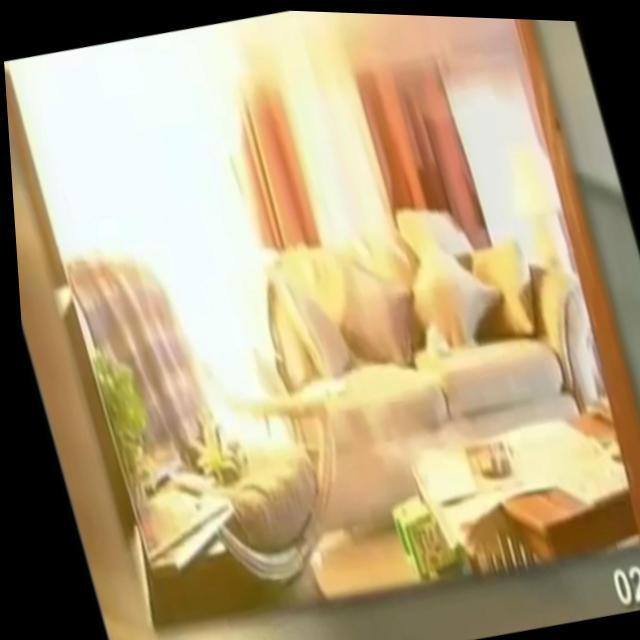fire: (4, 13, 359, 497)
